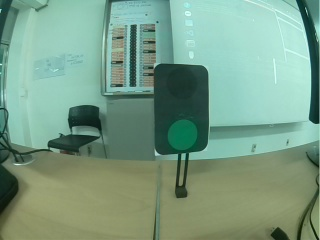green_light: (155, 66, 209, 150)
